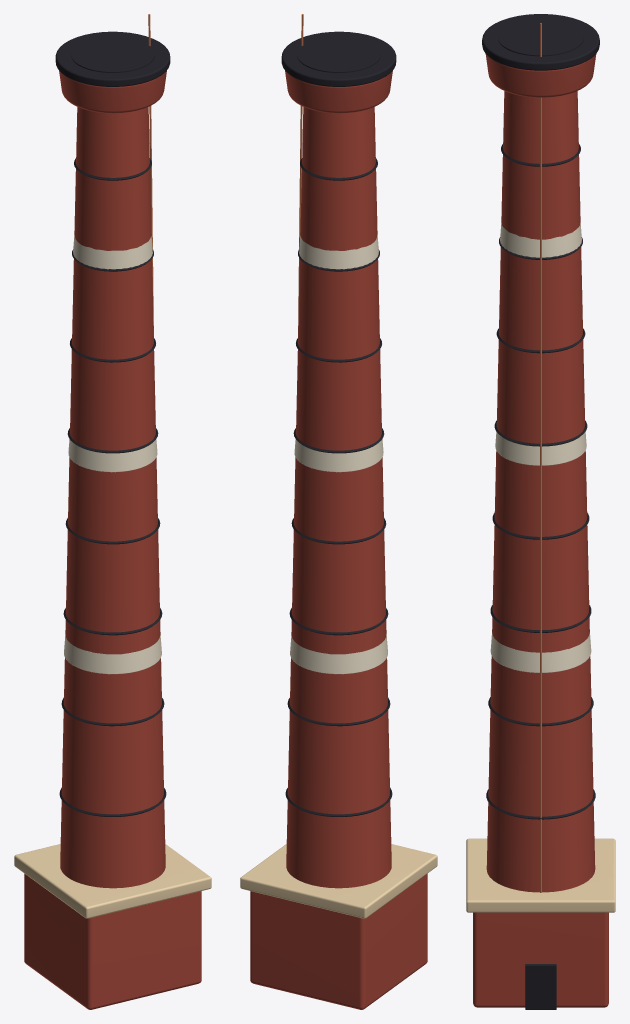
File: chimney_stack.glb
3 views of the same model, side by side, from view 1: azimuth 30°, elevation 25°; view 2: azimuth 150°, elevation 25°; view 3: azimuth 270°, elevation 25° (orthographic). The views are drawn at different scales.
Visible parts, largest first — view 1: chimney_stack; view 2: chimney_stack; view 3: chimney_stack.
Part boxes in pixels (left/top/right/bottom): chimney_stack: left=14, top=14, right=211, bottom=1009; chimney_stack: left=240, top=14, right=437, bottom=1009; chimney_stack: left=466, top=14, right=615, bottom=1009.
Bounding box in the file's own units: 6.6 × 47.5 × 6.6.
1 material, 1 textured.
